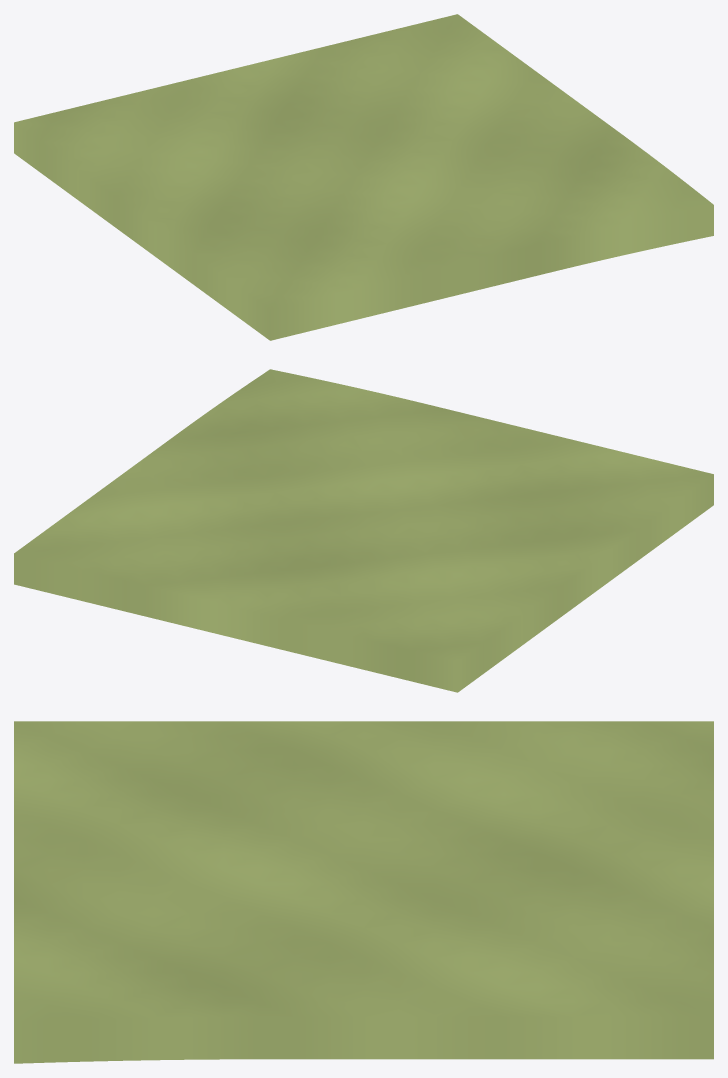
3 views of the same model, one above another, from view 1: azimuth 30°, elevation 25°; view 2: azimuth 150°, elevation 25°; view 3: azimuth 270°, elevation 25° (orthographic). The views are drawn at different scales.
Parts seen in each view (by area): view 1: terrain; view 2: terrain; view 3: terrain.
Boxes of the visible parts, x1=… form: terrain: x1=14, y1=14, x2=713, y2=340; terrain: x1=14, y1=369, x2=713, y2=692; terrain: x1=14, y1=721, x2=713, y2=1063.
Bounding box in the file's own units: 30 × 2.21 × 30.
